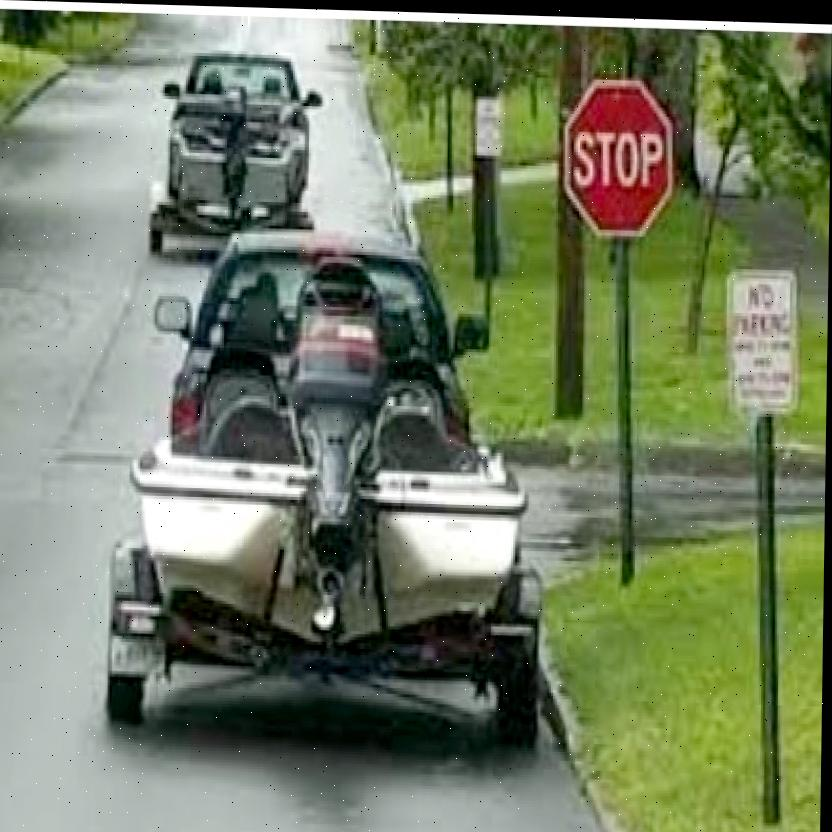Pole: (748, 410, 789, 818), (611, 236, 643, 584)
Sign: (563, 75, 677, 238)
